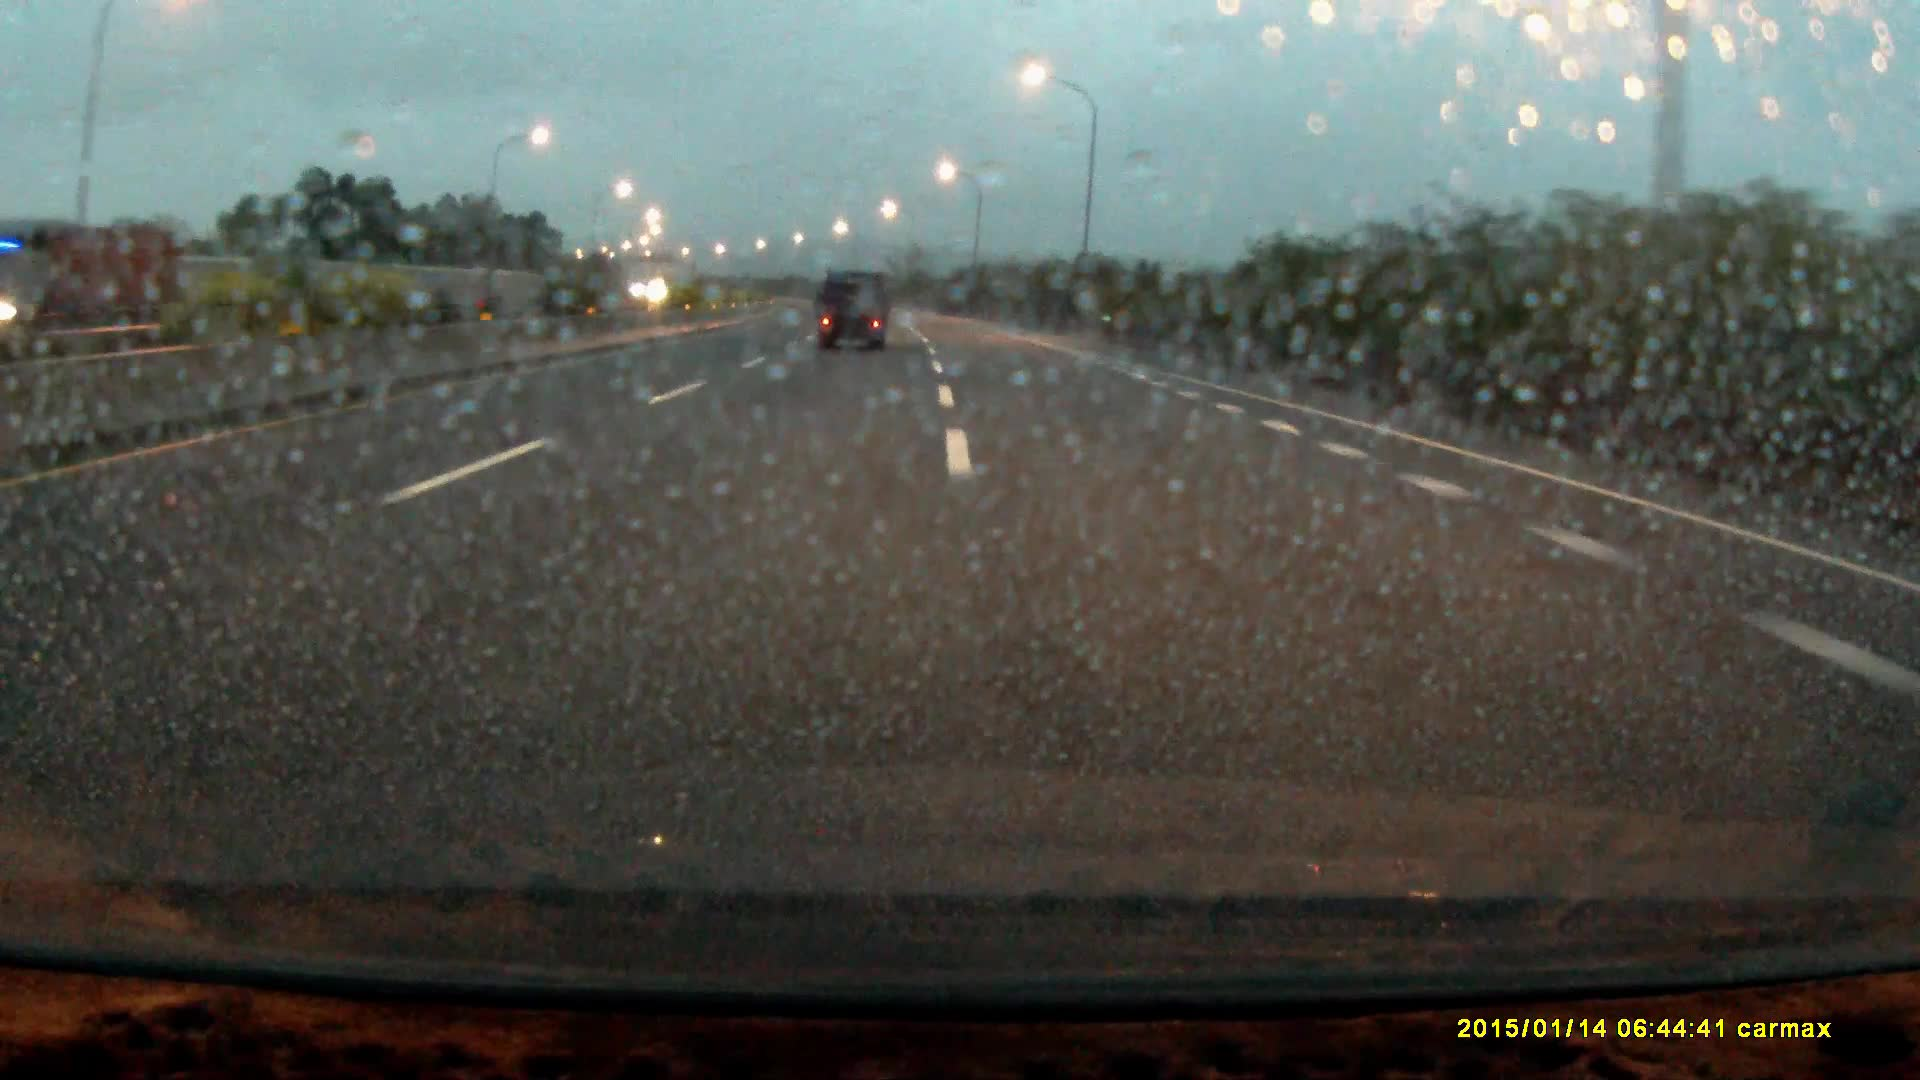vehicle: (13, 225, 204, 323), (815, 266, 891, 351)
